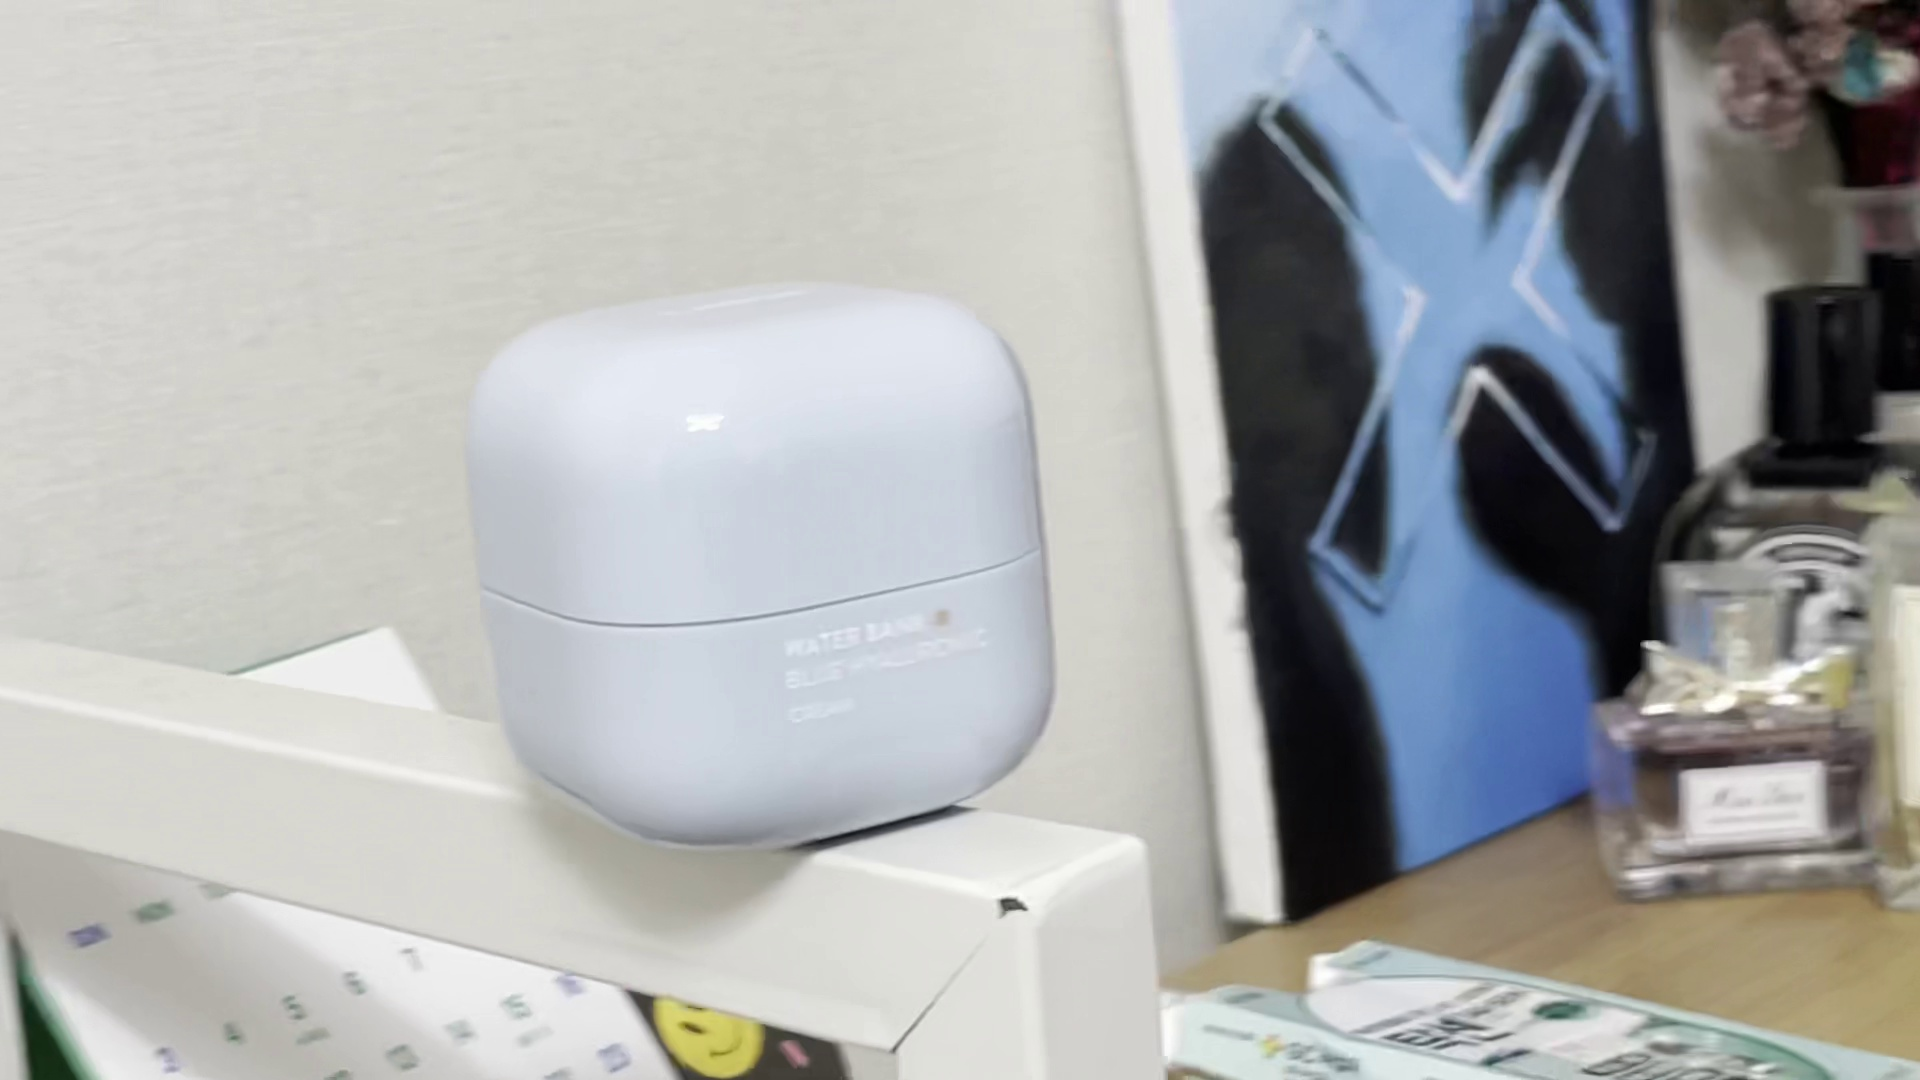cream: (458, 278, 1065, 855)
